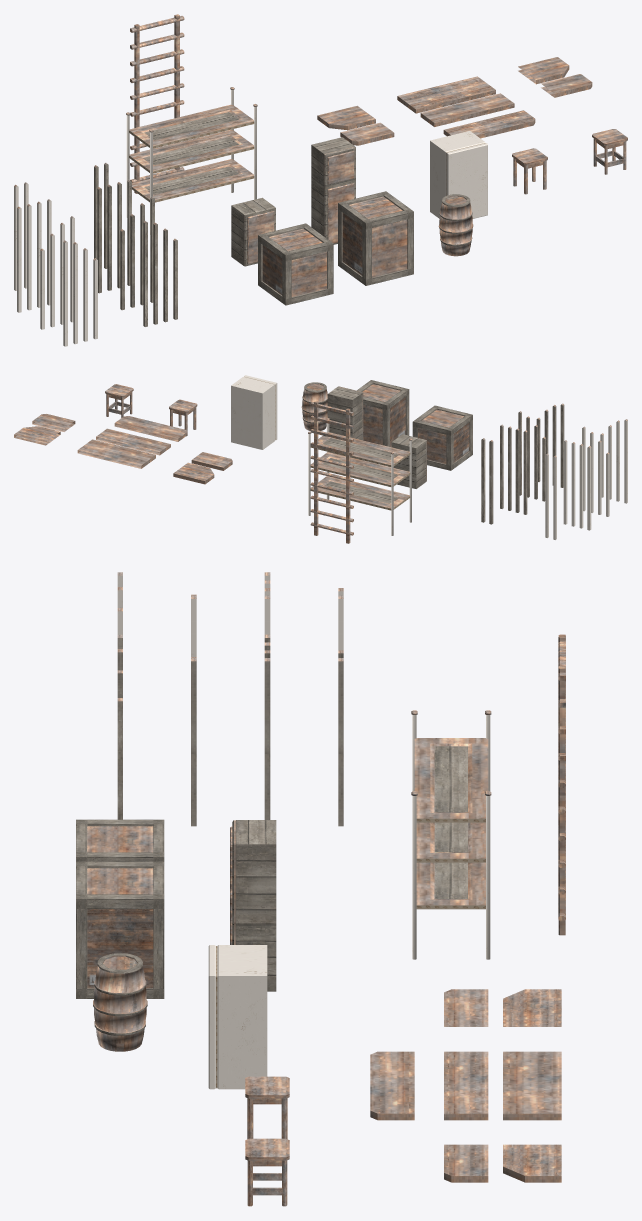
File: PropsFurniture.fbx
3 views of the same model, one above another, from view 1: azimuth 30°, elevation 25°; view 2: azimuth 150°, elevation 25°; view 3: azimuth 270°, elevation 25° (orthographic). The views are drawn at different scales.
Visible parts, largest first — view 1: Prop_Furn_WoodShelf, Prop_Furn_WoodCrate2, Prop_Furn_WoodCrate, Prop_Furn_MetalCabnet, Prop_Furn_WoodCabnet, Prop_Furn_Ladder1, Prop_Furn_WoodCabnet2, Prop_Furn_DecoFence2, Prop_Furn_DecoFence1, Prop_Furn_TableHang.M2, Prop_Furn_DecoFence2R, Prop_Furn_DecoFence1R (+13 smaller); view 2: Prop_Furn_WoodShelf, Prop_Furn_MetalCabnet, Prop_Furn_WoodCrate, Prop_Furn_Ladder1, Prop_Furn_WoodCrate2, Prop_Furn_DecoFence2, Prop_Furn_DecoFence1, Prop_Furn_WoodCabnet, Prop_Furn_WoodCabnet2, Prop_Furn_TableHang.M2, Prop_Furn_DecoFence2R, Prop_Furn_DecoFence1L (+13 smaller); view 3: Prop_Furn_WoodShelf, Prop_Furn_WoodCrate2, Prop_Furn_MetalCabnet, Prop_Furn_WoodCabnet, Prop_Furn_WoodCrate2.001, Prop_Furn_TableHang.M2, Prop_Furn_WoodCrate, Prop_Furn_TableHang.M, Prop_Furn_TableHang, Prop_Furn_Ladder1, Prop_Furn_ChairSquare2, Prop_Furn_TableHang2 (+8 smaller).
Boxes of the visible parts, x1=… form: Prop_Furn_WoodShelf: x1=126, y1=87, x2=257, y2=234; Prop_Furn_WoodCrate2: x1=338, y1=191, x2=413, y2=285; Prop_Furn_WoodCrate: x1=258, y1=223, x2=333, y2=305; Prop_Furn_MetalCabnet: x1=430, y1=131, x2=487, y2=218; Prop_Furn_WoodCabnet: x1=311, y1=137, x2=355, y2=244; Prop_Furn_Ladder1: x1=130, y1=14, x2=184, y2=193; Prop_Furn_WoodCabnet2: x1=231, y1=197, x2=275, y2=266; Prop_Furn_DecoFence2: x1=17, y1=199, x2=51, y2=312; Prop_Furn_DecoFence1: x1=97, y1=179, x2=131, y2=293; Prop_Furn_TableHang.M2: x1=397, y1=76, x2=495, y2=113; Prop_Furn_DecoFence2R: x1=63, y1=240, x2=97, y2=346; Prop_Furn_DecoFence1R: x1=143, y1=221, x2=177, y2=326; Prop_Furn_WoodShelf: x1=308, y1=418, x2=412, y2=535; Prop_Furn_MetalCabnet: x1=231, y1=375, x2=277, y2=449; Prop_Furn_WoodCrate: x1=412, y1=405, x2=472, y2=470; Prop_Furn_Ladder1: x1=310, y1=401, x2=353, y2=543; Prop_Furn_WoodCrate2: x1=357, y1=380, x2=409, y2=447; Prop_Furn_DecoFence2: x1=563, y1=440, x2=591, y2=530; Prop_Furn_DecoFence1: x1=500, y1=424, x2=527, y2=514; Prop_Furn_WoodCabnet: x1=327, y1=386, x2=363, y2=457; Prop_Furn_WoodCabnet2: x1=391, y1=434, x2=426, y2=488; Prop_Furn_TableHang.M2: x1=77, y1=439, x2=155, y2=468; Prop_Furn_DecoFence2R: x1=600, y1=419, x2=627, y2=503; Prop_Furn_DecoFence1L: x1=518, y1=411, x2=545, y2=501; Prop_Furn_WoodShelf: x1=411, y1=710, x2=491, y2=959; Prop_Furn_WoodCrate2: x1=76, y1=861, x2=164, y2=998; Prop_Furn_MetalCabnet: x1=208, y1=945, x2=267, y2=1089; Prop_Furn_WoodCabnet: x1=230, y1=820, x2=276, y2=991; Prop_Furn_WoodCrate2.001: x1=93, y1=953, x2=147, y2=1051; Prop_Furn_TableHang.M2: x1=503, y1=1051, x2=561, y2=1120; Prop_Furn_WoodCrate: x1=76, y1=819, x2=164, y2=861; Prop_Furn_TableHang.M: x1=444, y1=1051, x2=488, y2=1120; Prop_Furn_TableHang: x1=370, y1=1051, x2=414, y2=1120; Prop_Furn_Ladder1: x1=558, y1=634, x2=565, y2=935; Prop_Furn_ChairSquare2: x1=245, y1=1138, x2=289, y2=1206; Prop_Furn_TableHang2: x1=503, y1=1144, x2=561, y2=1182.
Bounding box in the file's own units: 1579 × 400 × 666.
